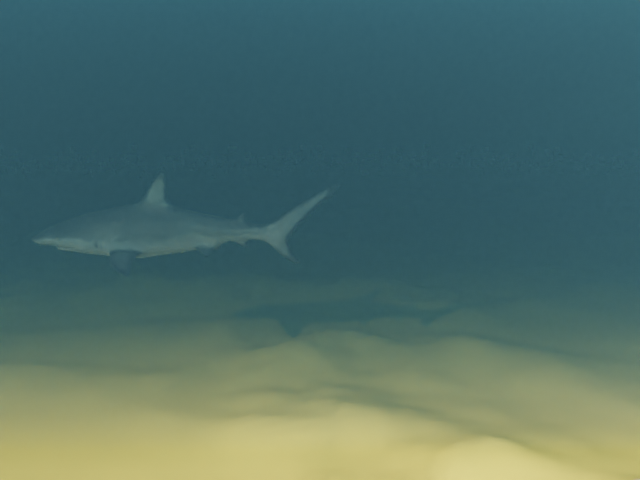Carribean Shark.001: (31, 172, 339, 276)
